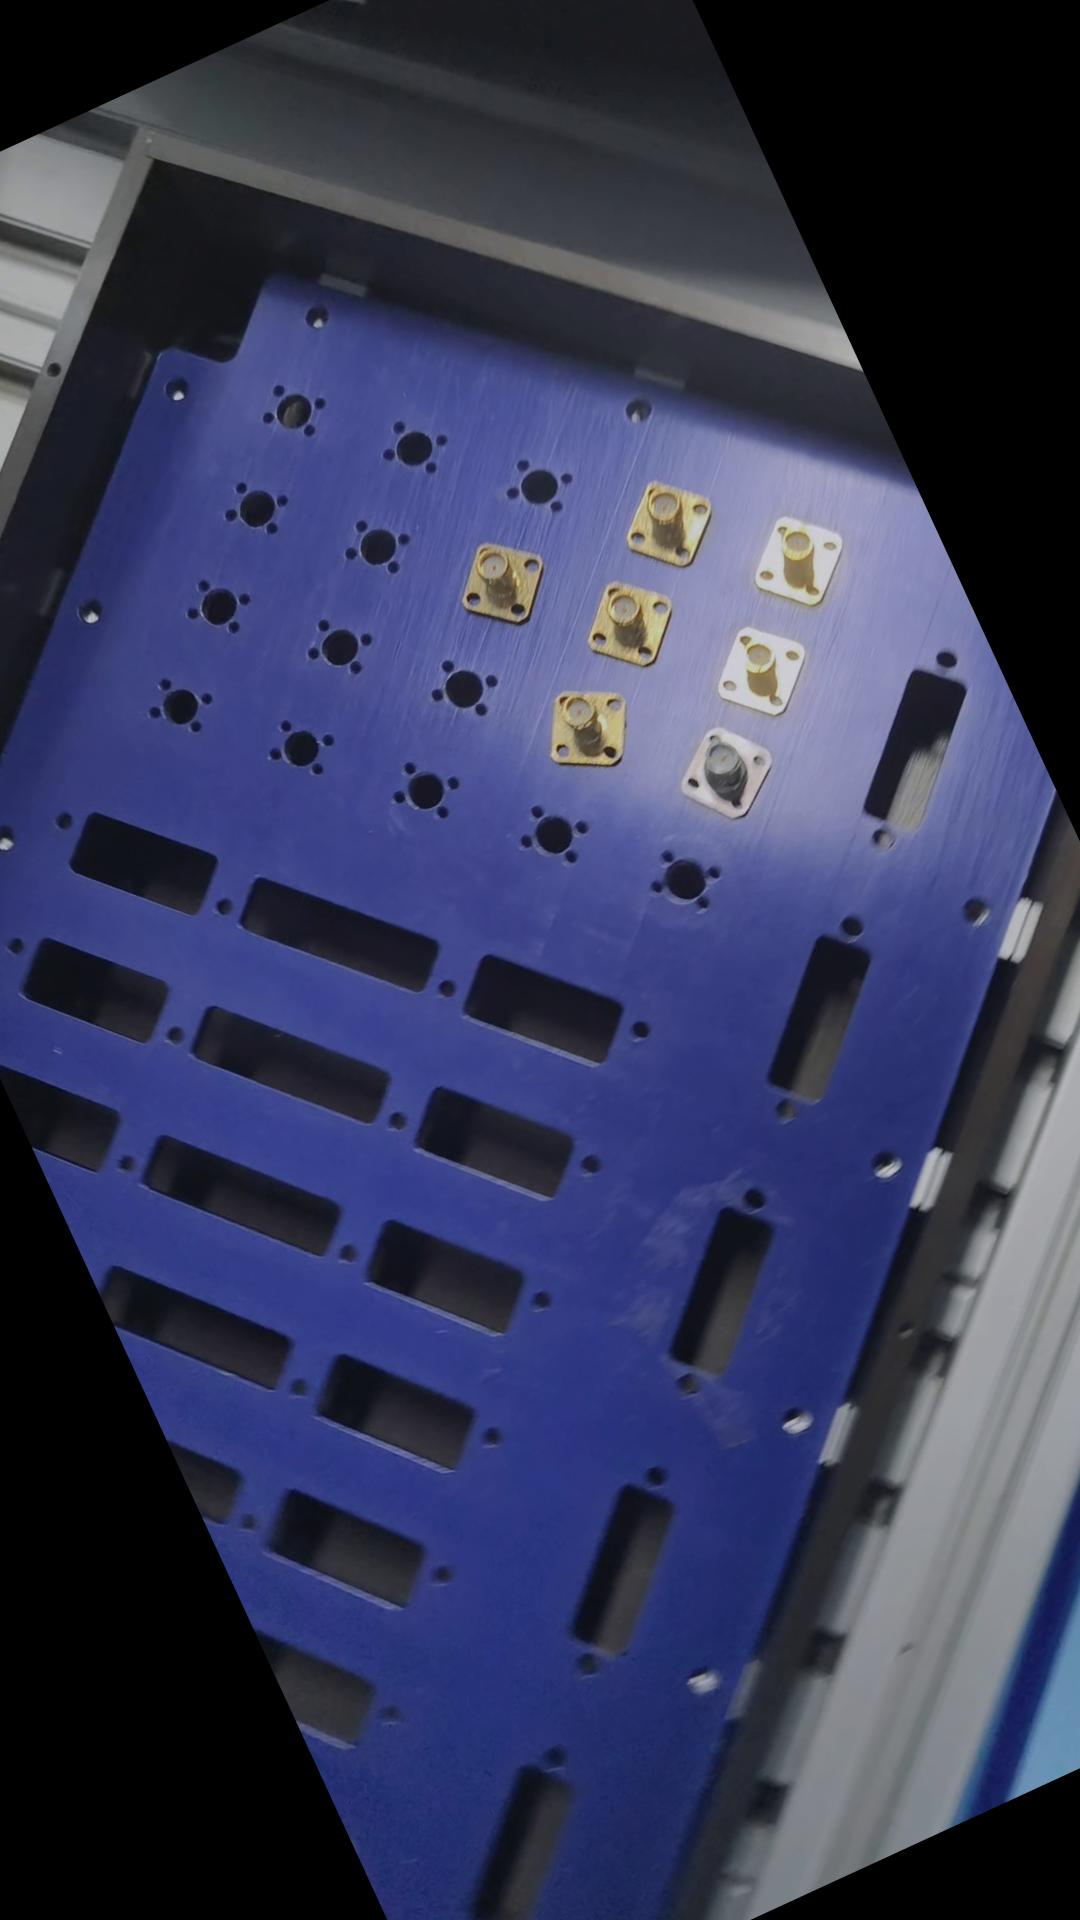SMA: (731, 495, 862, 624), (658, 705, 785, 829), (563, 562, 686, 688), (694, 611, 819, 731), (607, 463, 728, 583), (524, 669, 644, 787), (440, 524, 558, 638)
